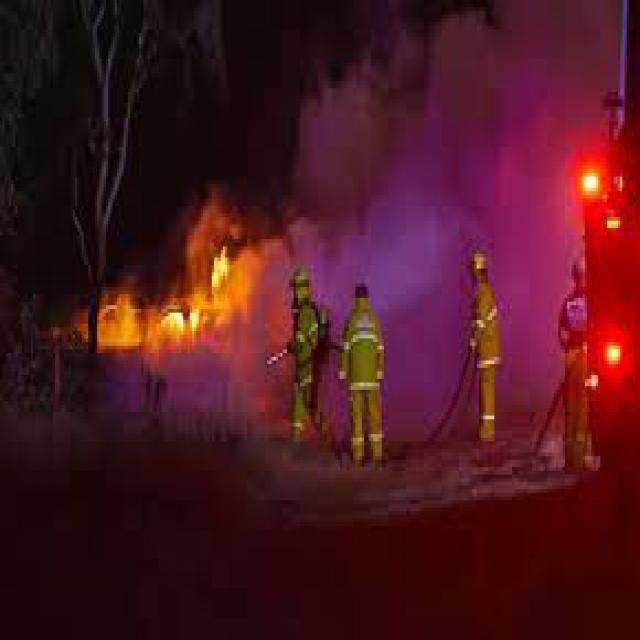Fire: (92, 195, 245, 373)
Smoke: (303, 0, 578, 243)
